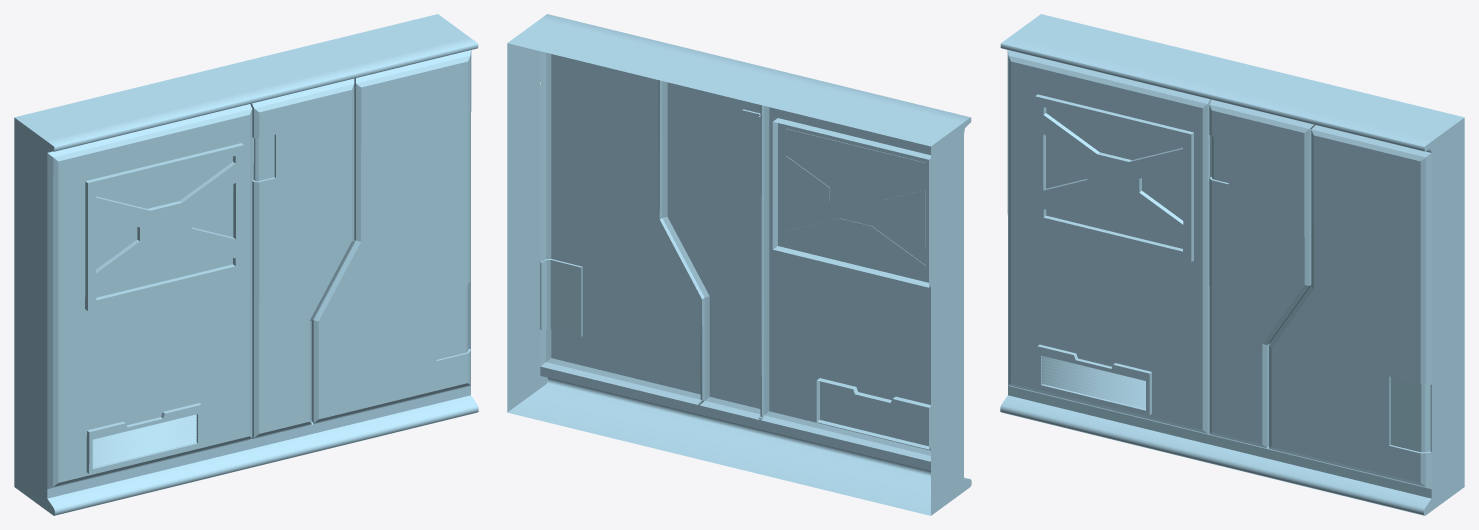
Rendered from pared8.fbx.
3 renders of one model, left to right at view 1: azimuth 30°, elevation 25°; view 2: azimuth 150°, elevation 25°; view 3: azimuth 330°, elevation 25°, orthographic.
Visible parts, largest first — view 1: 14; view 2: 14; view 3: 14.
Part boxes in pixels (x1,y1,x2,y2): 14: (14,14,478,515); 14: (507,14,971,515); 14: (1000,14,1464,515).
Size of the model in its own units: 300 by 250 by 49.99.
